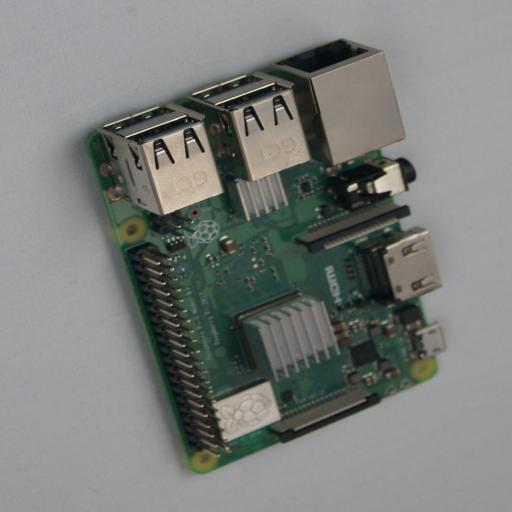Raspberry Pi 3 B-: (72, 38, 440, 474)
